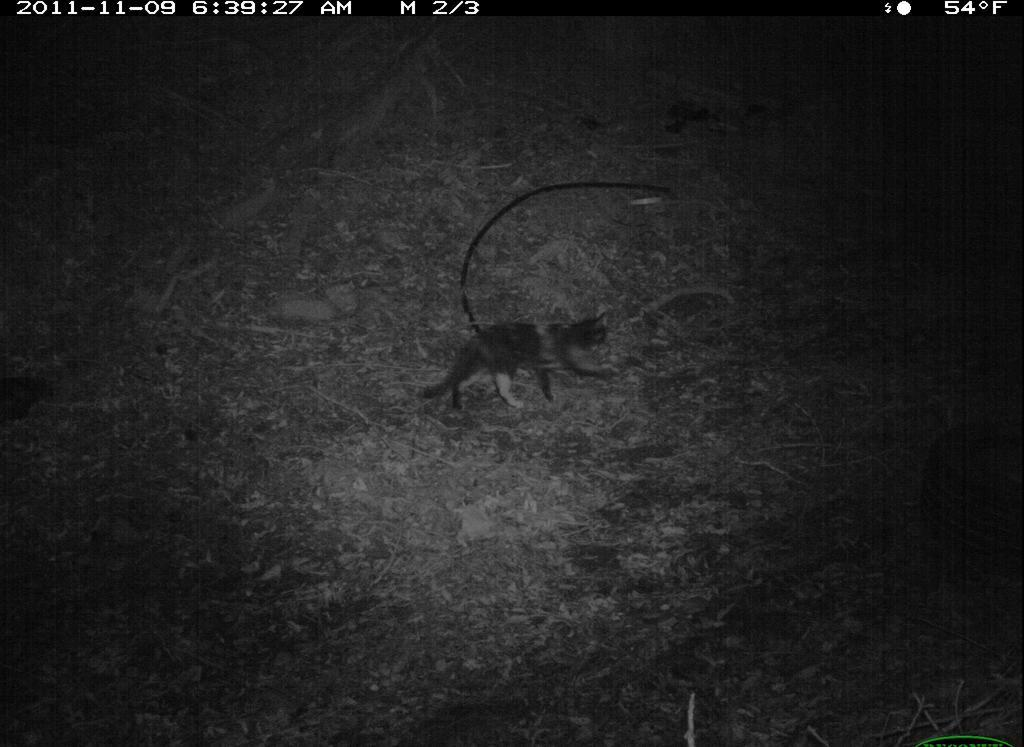cat: (414, 305, 626, 418)
